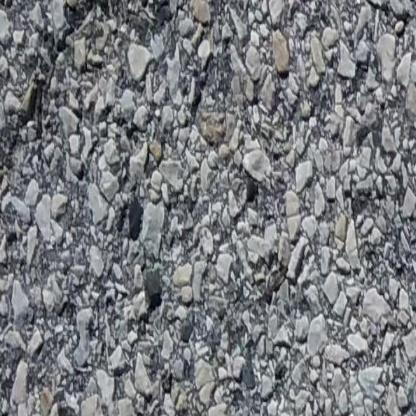Cracks: (0, 0, 180, 215)
